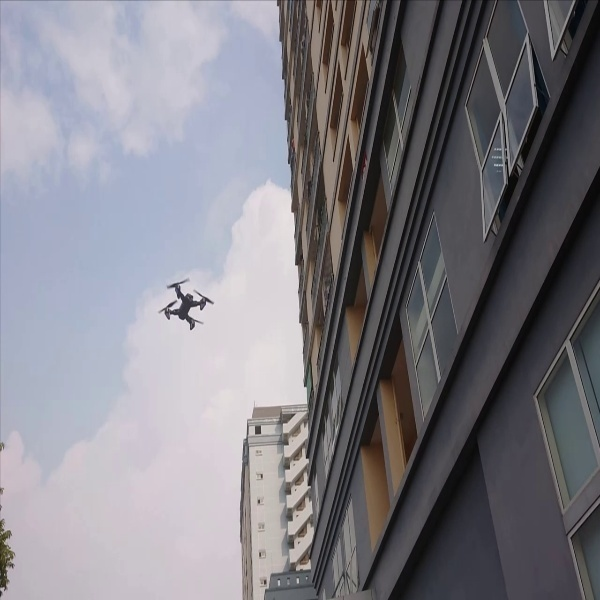drone: (156, 269, 220, 342)
